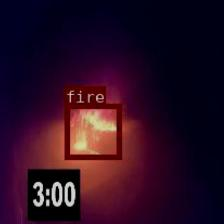fire: (64, 103, 120, 159)
